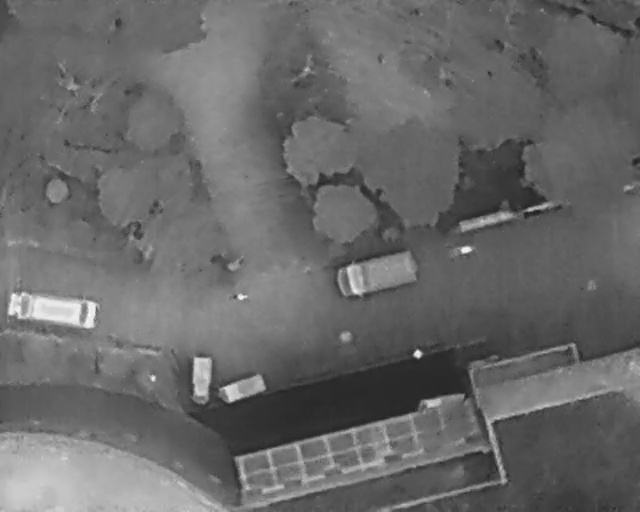OtherVehicle: (333, 249, 422, 299), (6, 289, 98, 328), (219, 373, 267, 406), (189, 355, 212, 409)
Person: (228, 291, 249, 301)
